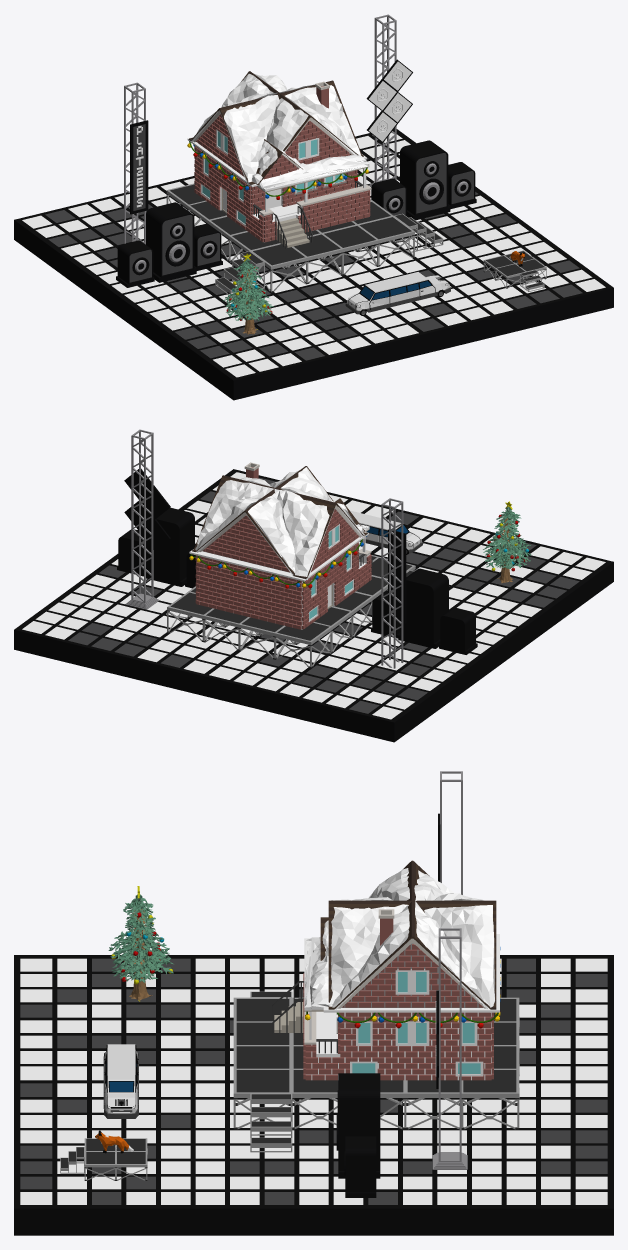
The picture shows the model from 3 angles, top to bottom: view 1: azimuth 30°, elevation 25°; view 2: azimuth 150°, elevation 25°; view 3: azimuth 270°, elevation 25°; orthographic projection. The views are drawn at different scales.
Visible parts, largest first — view 1: Cube.008, Cube.1419, VEHICLES_LIMOUSINE, OBJRANDOM_CHRISTMAS_TREE; view 2: Cube.008, Cube.1419, OBJRANDOM_CHRISTMAS_TREE, VEHICLES_LIMOUSINE; view 3: Cube.008, Cube.1419, OBJRANDOM_CHRISTMAS_TREE, VEHICLES_LIMOUSINE.
Part boxes in pixels (x1,y1,x2,y2): Cube.008: (14,14,613,400); Cube.1419: (187,71,371,248); VEHICLES_LIMOUSINE: (345,272,450,315); OBJRANDOM_CHRISTMAS_TREE: (222,253,273,334); Cube.008: (14,429,613,742); Cube.1419: (189,462,372,629); OBJRANDOM_CHRISTMAS_TREE: (483,501,531,583); VEHICLES_LIMOUSINE: (350,510,423,554); Cube.008: (14,771,613,1235); Cube.1419: (272,860,500,1080); OBJRANDOM_CHRISTMAS_TREE: (108,886,173,1001); VEHICLES_LIMOUSINE: (103,1044,138,1118).
Bounding box in the file's own units: 4000 × 2124 × 4000.
Materials: 46 (1 with a texture image).
